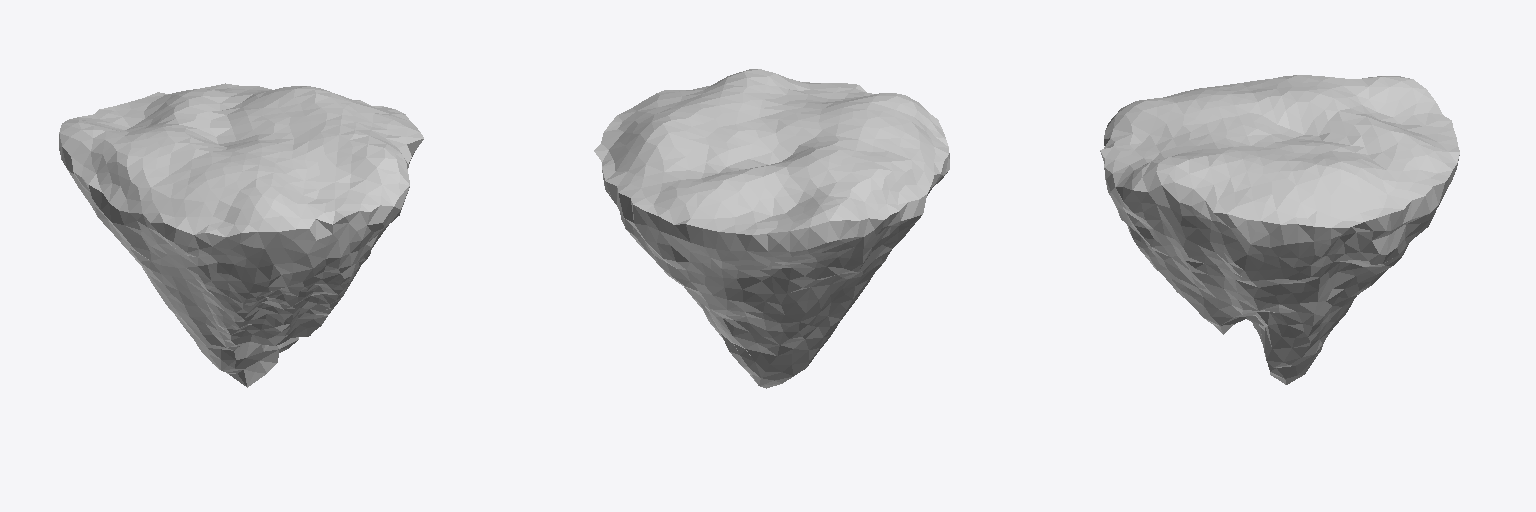
File: Island_LOD0.obj
3 renders of one model, left to right at view 1: azimuth 30°, elevation 25°; view 2: azimuth 150°, elevation 25°; view 3: azimuth 270°, elevation 25°, orthographic.
Parts seen in each view (by area): view 1: Cone; view 2: Cone; view 3: Cone.
Part boxes in pixels (x1,y1,x2,y2): Cone: (59, 83, 423, 387); Cone: (594, 69, 949, 388); Cone: (1100, 75, 1459, 384).
Size of the model in its own units: 1.94 by 1.61 by 2.02.